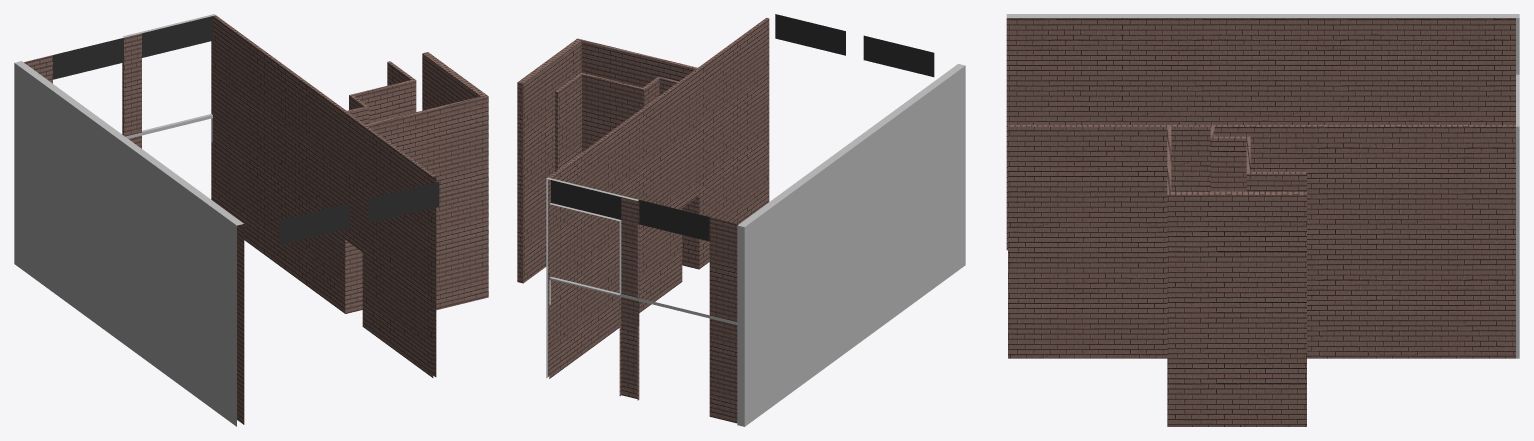
File: MSH_Muros_Lobby.FBX
3 views of the same model, side by side, from view 1: azimuth 30°, elevation 25°; view 2: azimuth 150°, elevation 25°; view 3: azimuth 270°, elevation 25° (orthographic). The views are drawn at different scales.
Visible parts, largest first — view 1: MSH_Muros_Lobby; view 2: MSH_Muros_Lobby; view 3: MSH_Muros_Lobby.
Boxes of the visible parts, x1=… form: MSH_Muros_Lobby: x1=14, y1=14, x2=488, y2=426; MSH_Muros_Lobby: x1=517, y1=14, x2=965, y2=426; MSH_Muros_Lobby: x1=1006, y1=14, x2=1519, y2=426.
Bounding box in the file's own units: 1086 × 650 × 1334.
